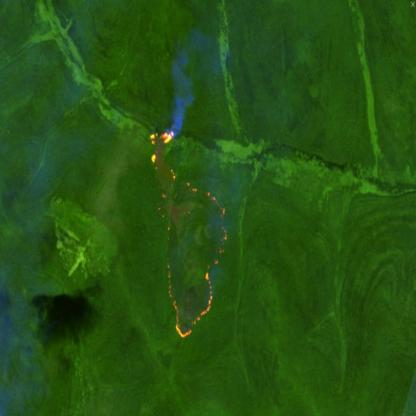fire: (162, 264, 214, 342), (146, 124, 176, 174)
